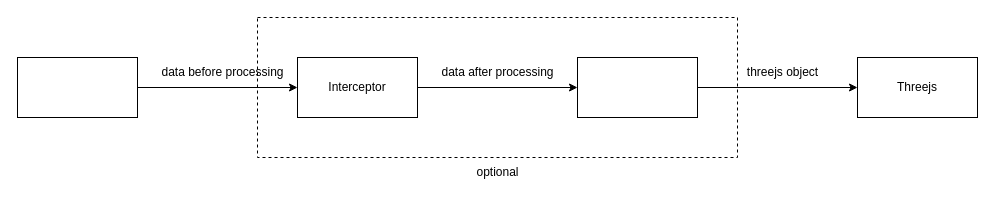
Image size: 995x205. Some labels were removed from this diagram. The centre of each missing label's shape, as x and y in pixels:
"Loader" goes at point (637, 87).
"Receptionist" goes at point (77, 87).
